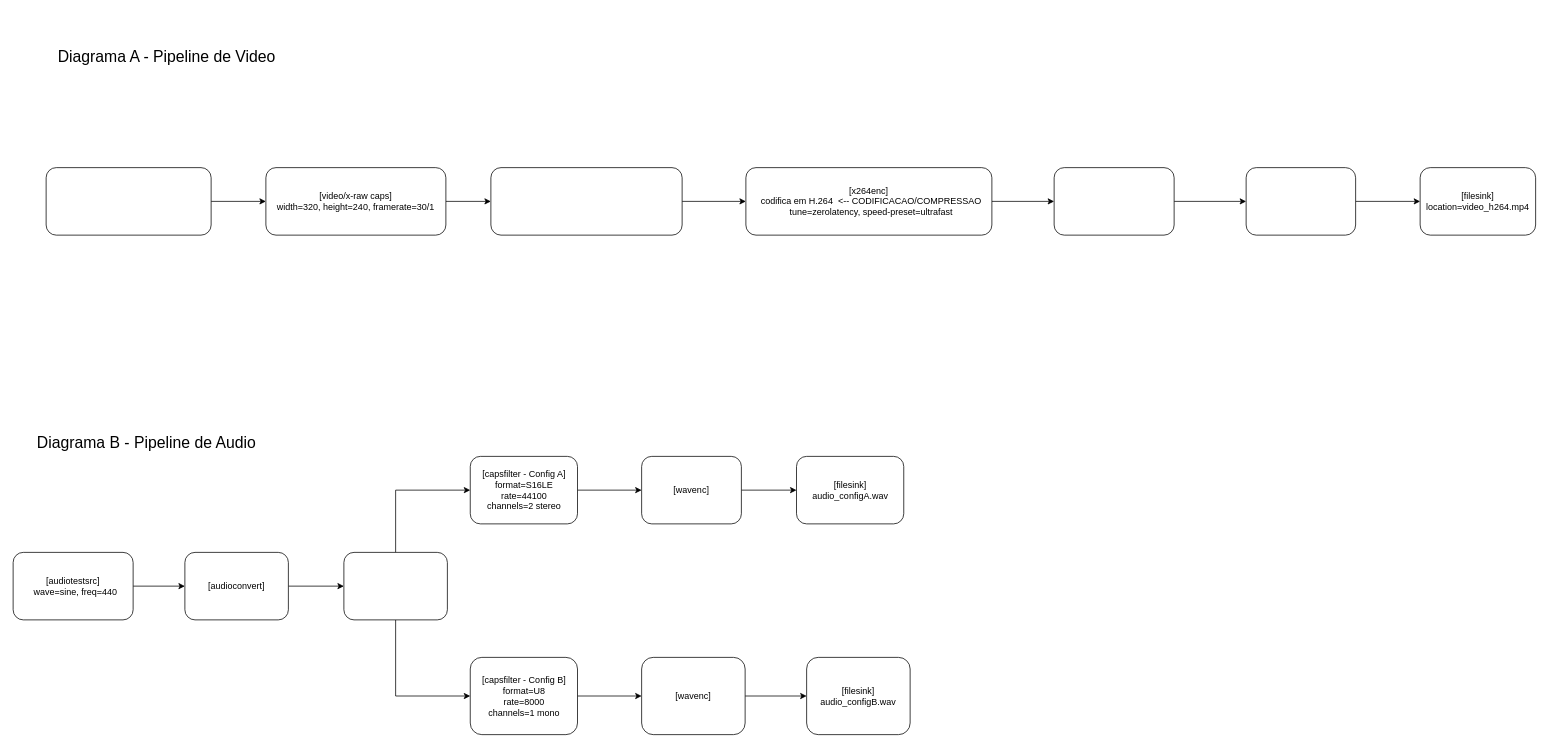
The diagram is 1549 pixels wide and 748 high, and some of its shapes have lost their labels. The shapes that lost their labels are listed below. From the top down, each one's centre as x and y in pixels, then its label:
the point at 128,201: [videotestsrc] pattenr=smpte, num-buffers=150
the point at 586,201: [videoconvert] (ajusta o formato de pixel para o encoder)
the point at 1113,201: [h264parse] organiza o stream codificado
the point at 1300,201: [mp4mux] empacota no container MP4
the point at 395,586: [audioresample]
